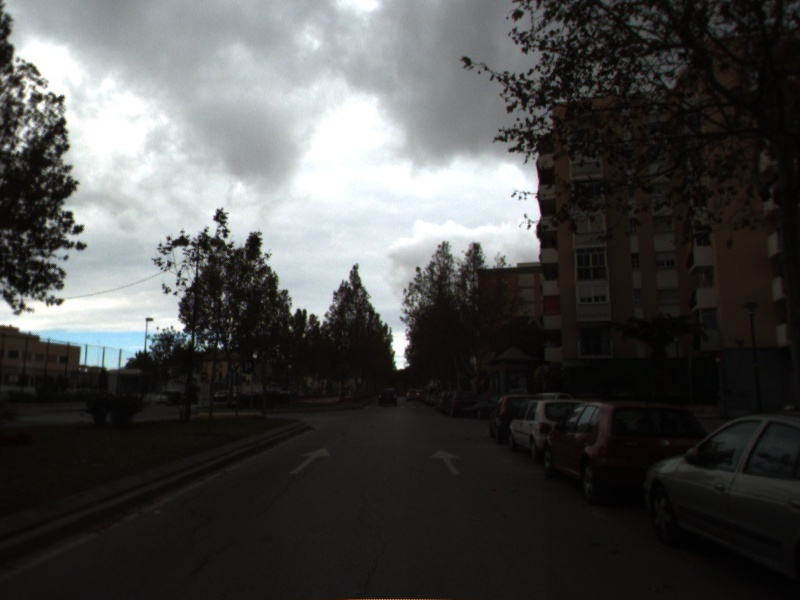STRAIGHT: (287, 445, 334, 476), (428, 446, 463, 477)
